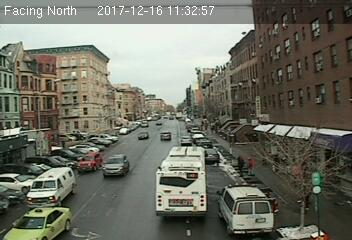bus: (156, 144, 207, 219)
car: (99, 155, 130, 178), (78, 154, 100, 171), (181, 136, 193, 147), (159, 132, 171, 139), (137, 131, 148, 138)
pedestrian: (236, 156, 245, 176), (247, 155, 255, 177)
police: (216, 180, 274, 237)
truck: (28, 166, 76, 208)
